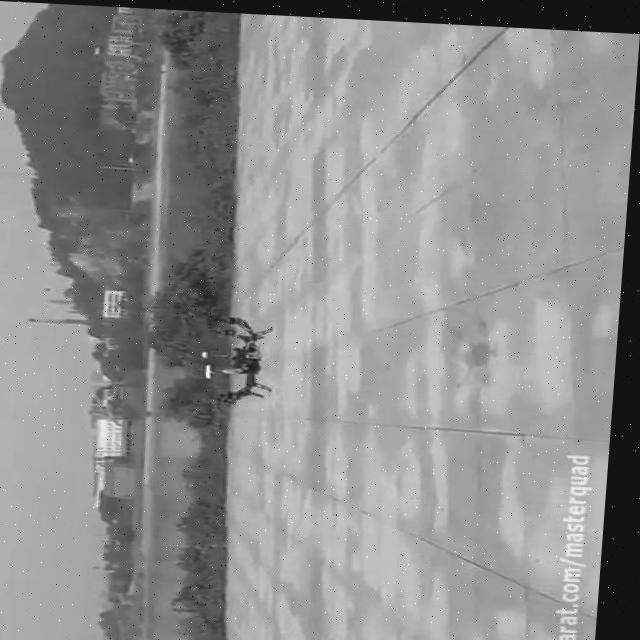drone: (199, 310, 286, 404)
